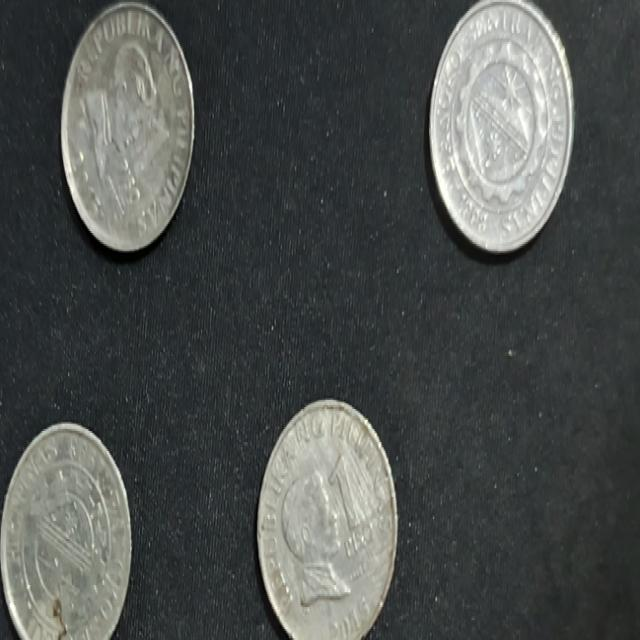1_peso: (430, 0, 573, 251), (257, 400, 397, 638), (61, 2, 193, 249), (0, 424, 131, 638)
